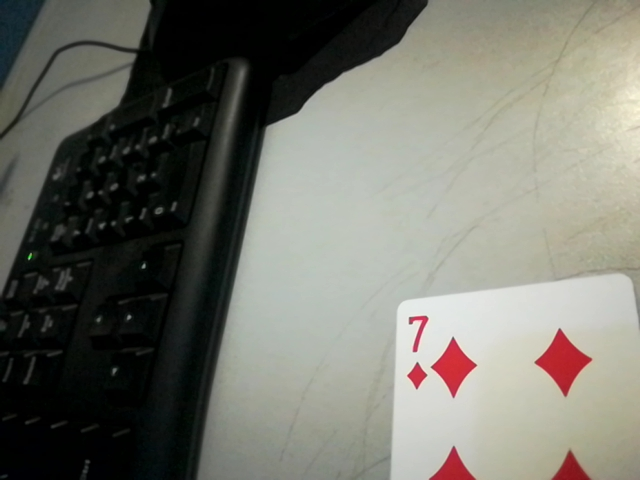fk 7: (395, 303, 443, 396)
